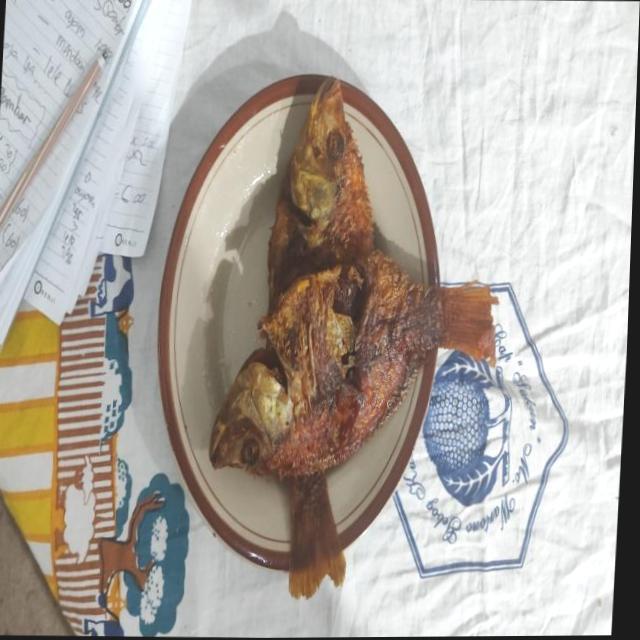ikan_mujair: (209, 250, 494, 479), (264, 76, 372, 599)
